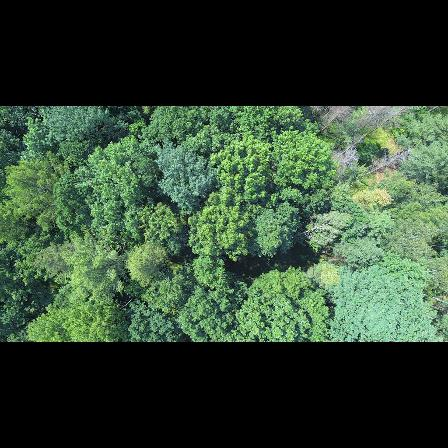Dead: (360, 152, 407, 179), (289, 217, 332, 245), (361, 108, 404, 136), (336, 130, 374, 156), (315, 107, 346, 134), (331, 154, 358, 172)
